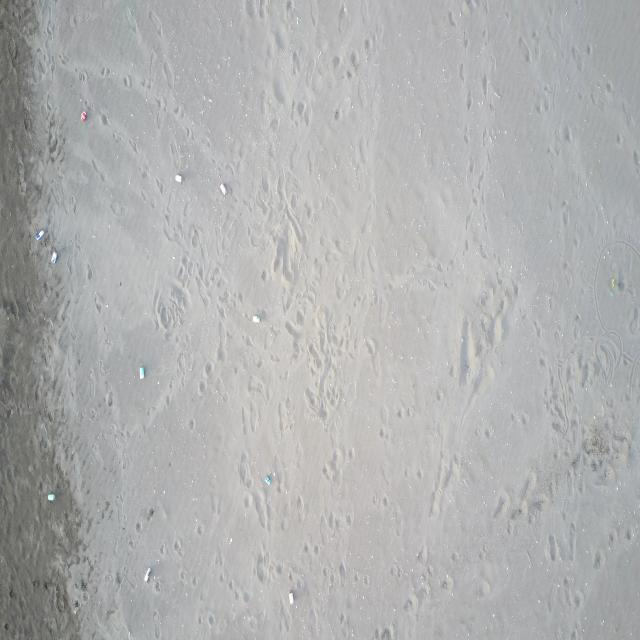Garbage: (35, 228, 44, 240), (143, 567, 150, 582), (263, 473, 272, 484), (220, 183, 227, 195), (252, 313, 260, 323), (49, 252, 56, 263), (173, 173, 180, 183), (80, 111, 87, 120), (288, 591, 292, 604), (139, 367, 143, 379), (48, 492, 54, 500)
